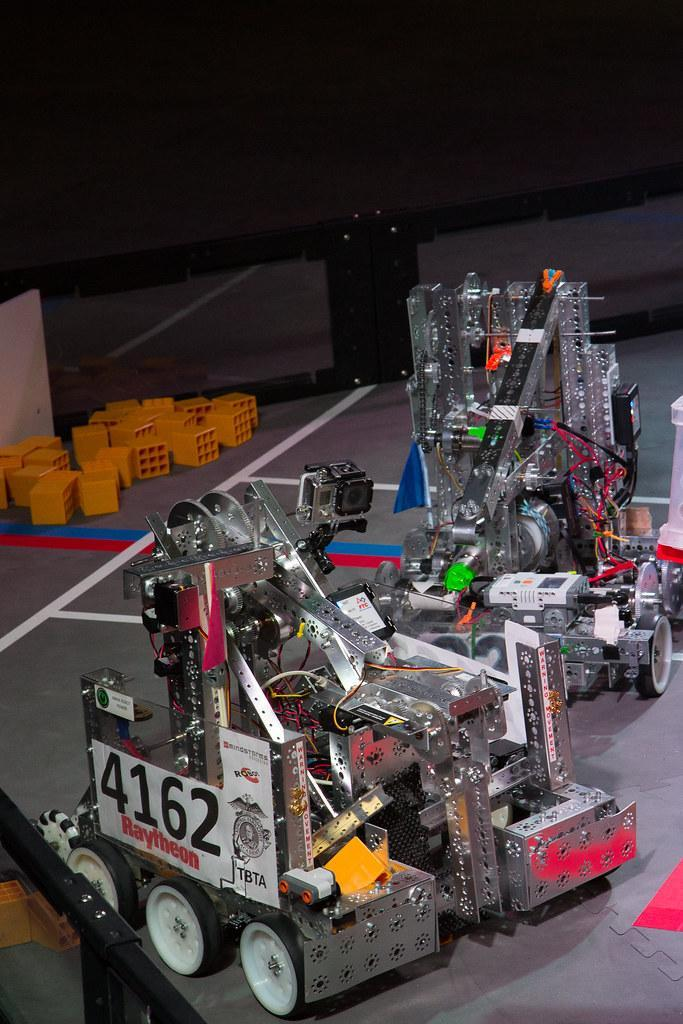robot: (19, 460, 649, 1024), (327, 259, 683, 727)
